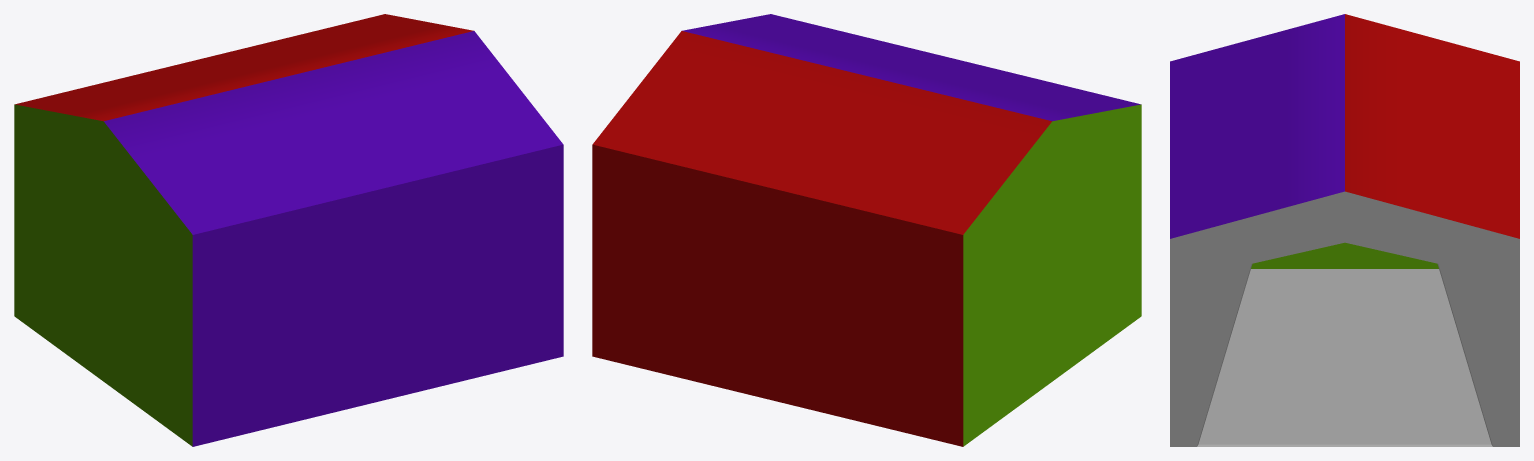
File: tentRectangle.fbx
The picture shows the model from 3 angles, left to right: view 1: azimuth 30°, elevation 25°; view 2: azimuth 150°, elevation 25°; view 3: azimuth 270°, elevation 25°; orthographic projection.
Parts seen in each view (by area): view 1: RectangleTent; view 2: RectangleTent; view 3: RectangleTent.
Part boxes in pixels (box(x1,y1,x2,y2)): RectangleTent: box(14, 14, 563, 446); RectangleTent: box(592, 14, 1141, 446); RectangleTent: box(1170, 14, 1519, 446).
Bounding box in the file's own units: 3.7 × 2.48 × 3.08.
